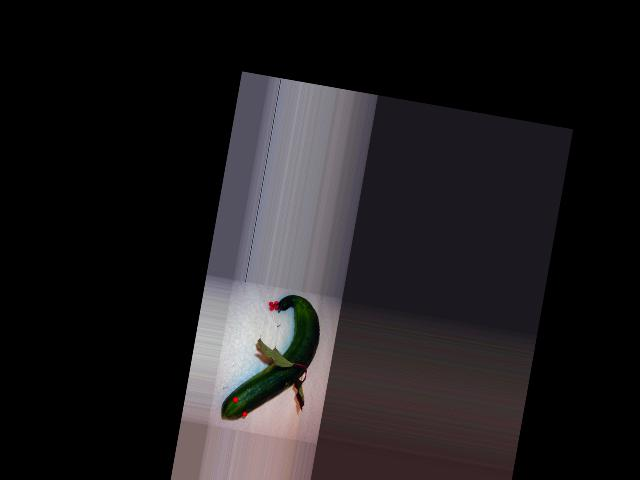cucumber: (220, 285, 325, 431)
